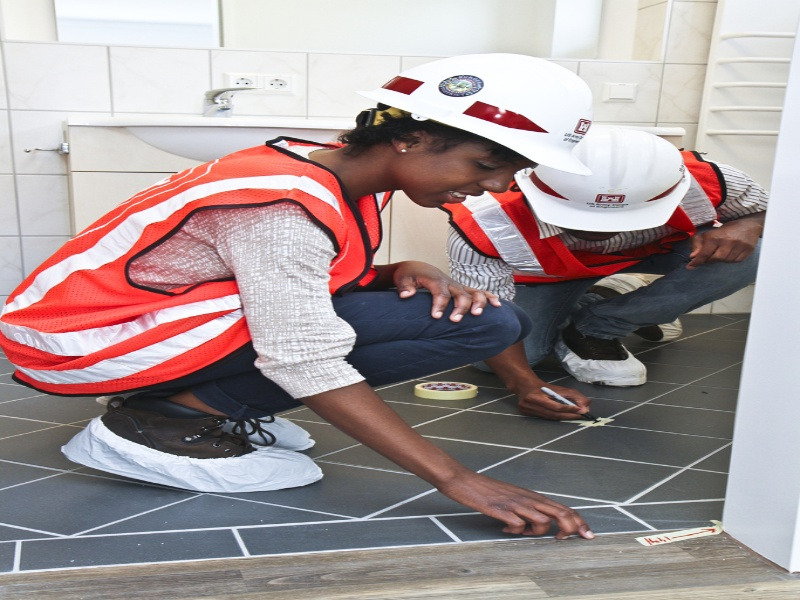Baret: (353, 50, 597, 184), (523, 128, 694, 235)
